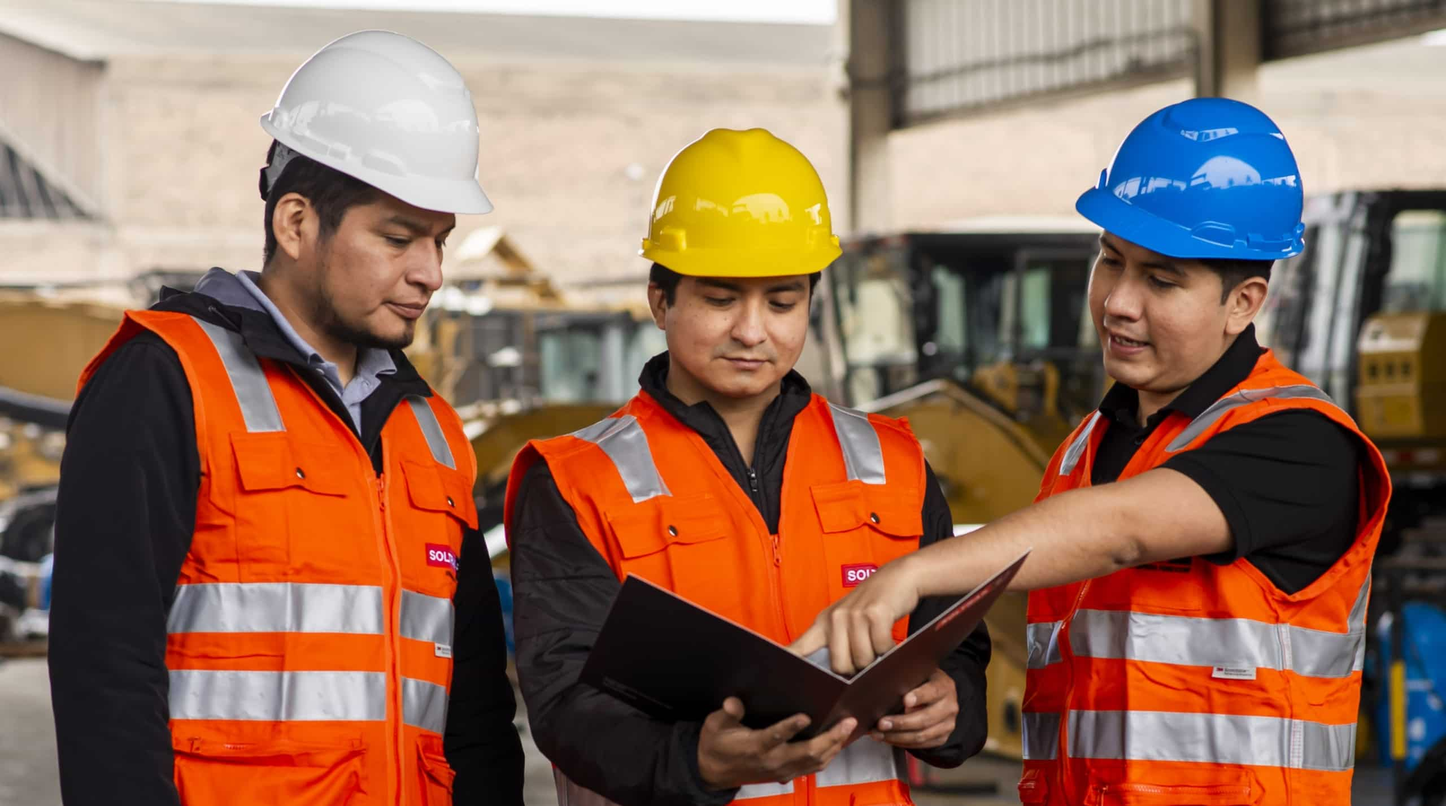Casco de seguridad: (259, 30, 493, 214), (1076, 98, 1303, 260), (639, 128, 840, 277)
